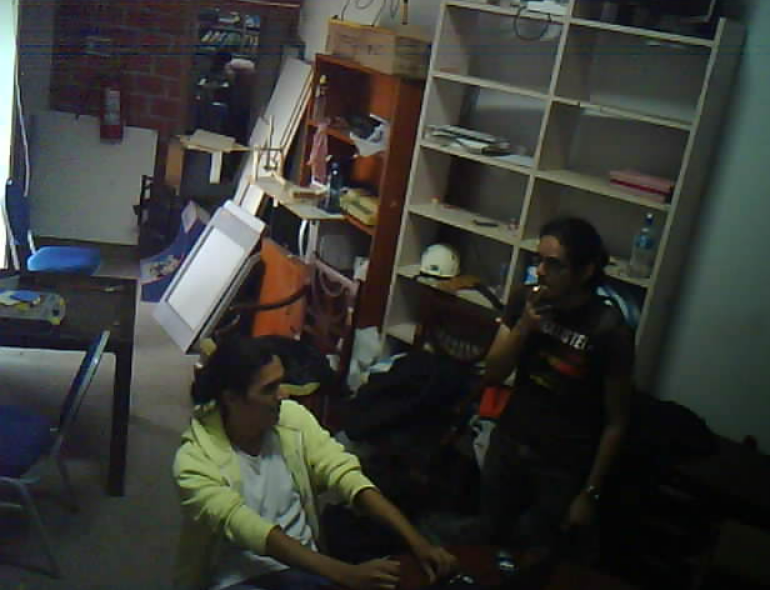person: (162, 321, 466, 590), (463, 179, 659, 547)
